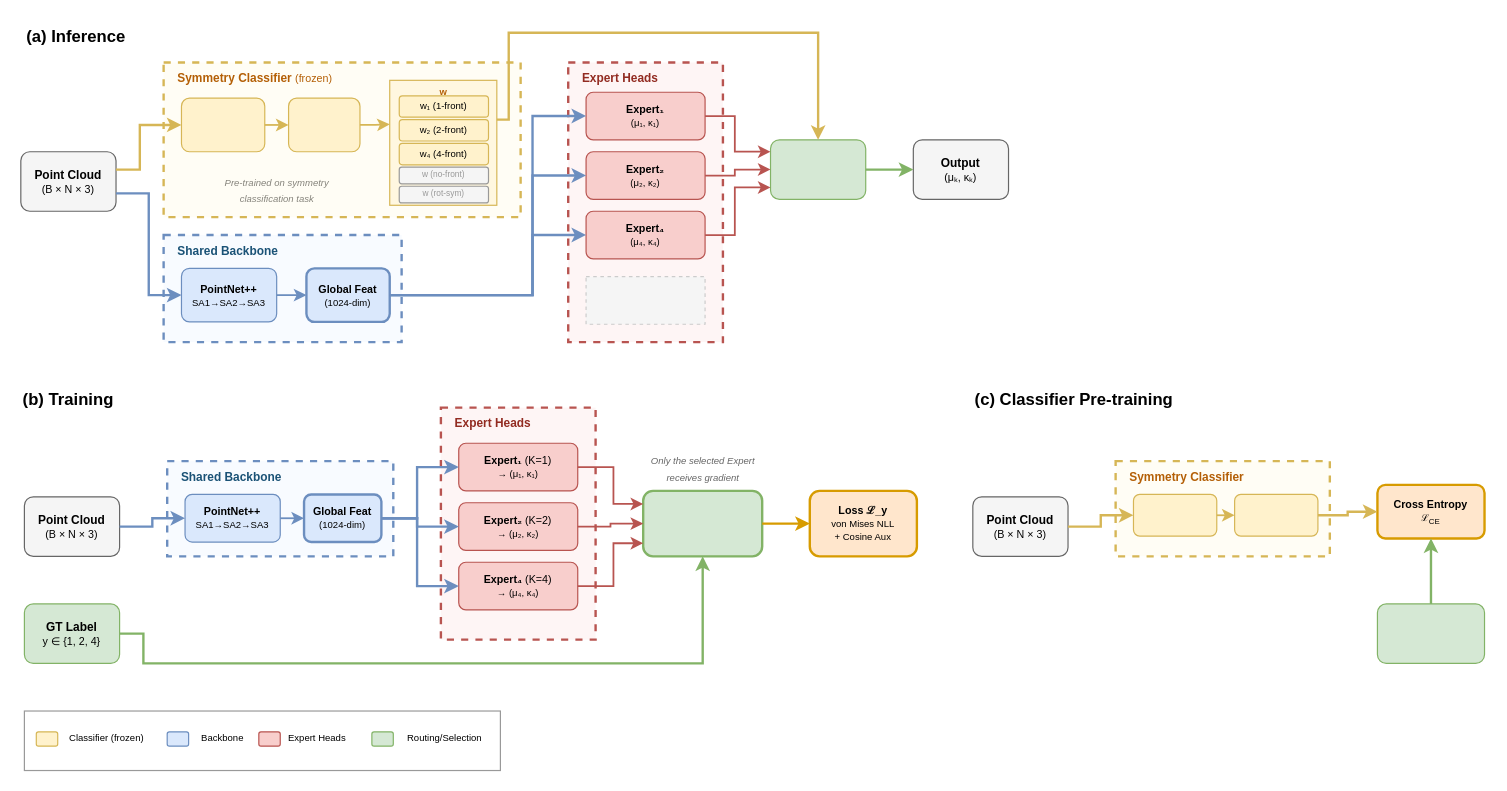
The diagram is 1507 pixels wide and 791 high, and some of its shapes have lost their labels. Each missing label, with the centre of its shape:
argmax(w) select k: point 817,169
FC + Softmax: point 1275,514
FC Head Softmax: point 323,124
GT Class y ∈ {1,2,4,0,S}: point 1430,633
Hard Router select by GT: k = y: point 702,523
no-front / rot-sym → no orientation: point 645,299
PointNet++: point 1174,514
PointNet++ Encoder: point 222,124
